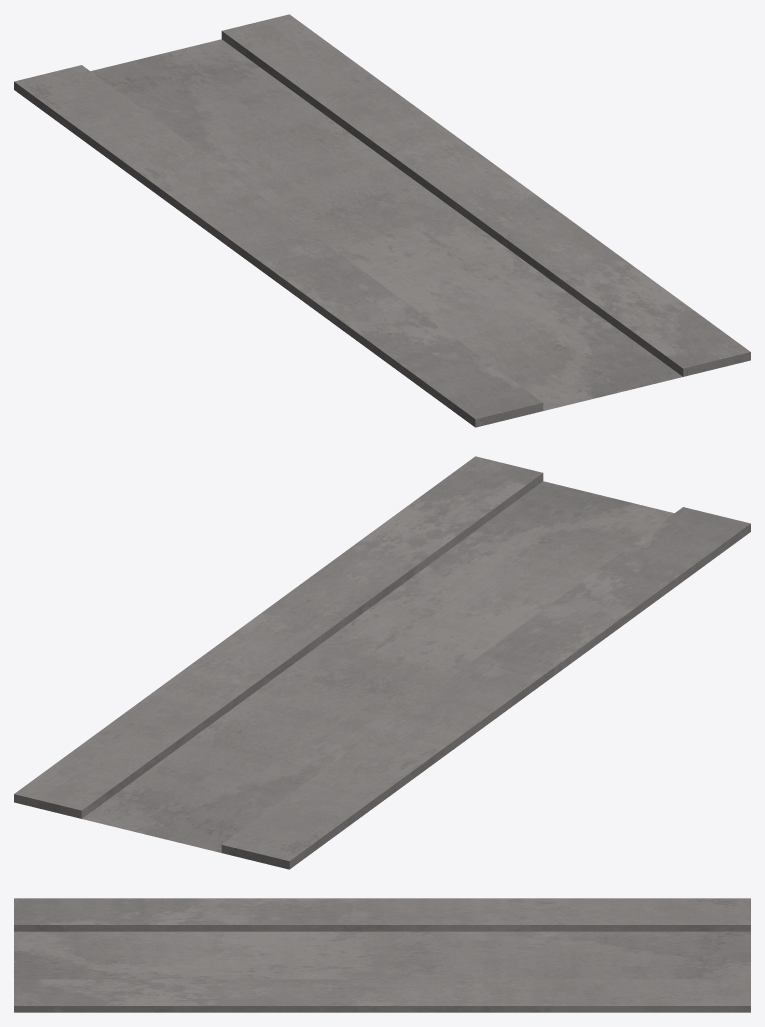
Rendered from piso.fbx.
The picture shows the model from 3 angles, top to bottom: view 1: azimuth 30°, elevation 25°; view 2: azimuth 150°, elevation 25°; view 3: azimuth 270°, elevation 25°; orthographic projection. The views are drawn at different scales.
Parts seen in each view (by area): view 1: Plane.019; view 2: Plane.019; view 3: Plane.019.
Boxes of the visible parts, x1,y1,x2,y2 form: Plane.019: (14,14,750,427); Plane.019: (14,456,750,869); Plane.019: (14,898,750,1012).
Size of the model in its own units: 4822 by 140 by 13989.
2 materials, 2 textured.
